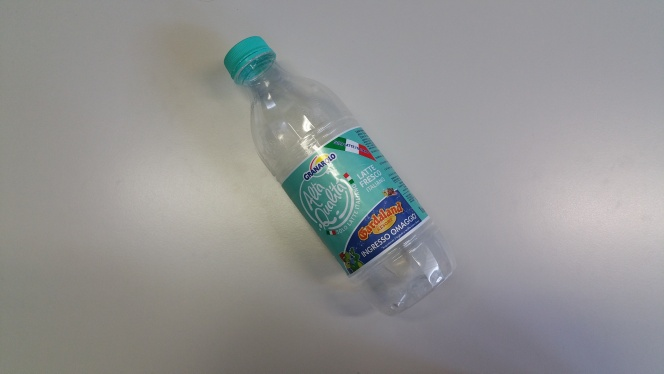bottle: (220, 30, 458, 317)
